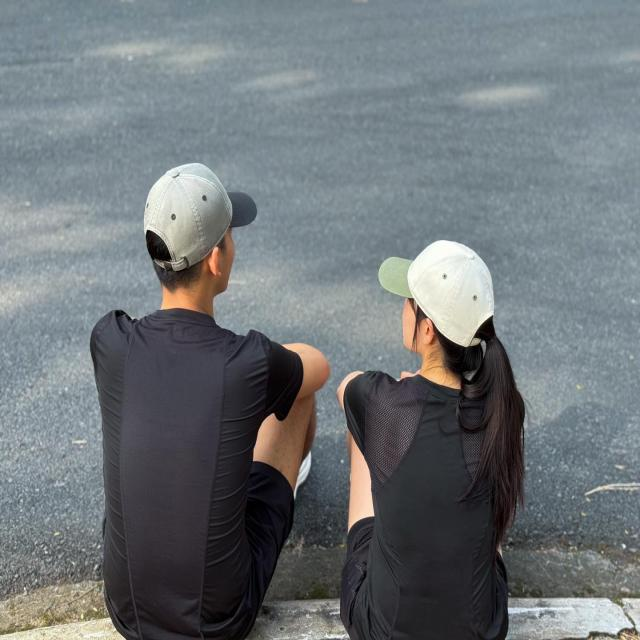no_helmet: (376, 213, 506, 356), (138, 156, 260, 272)
